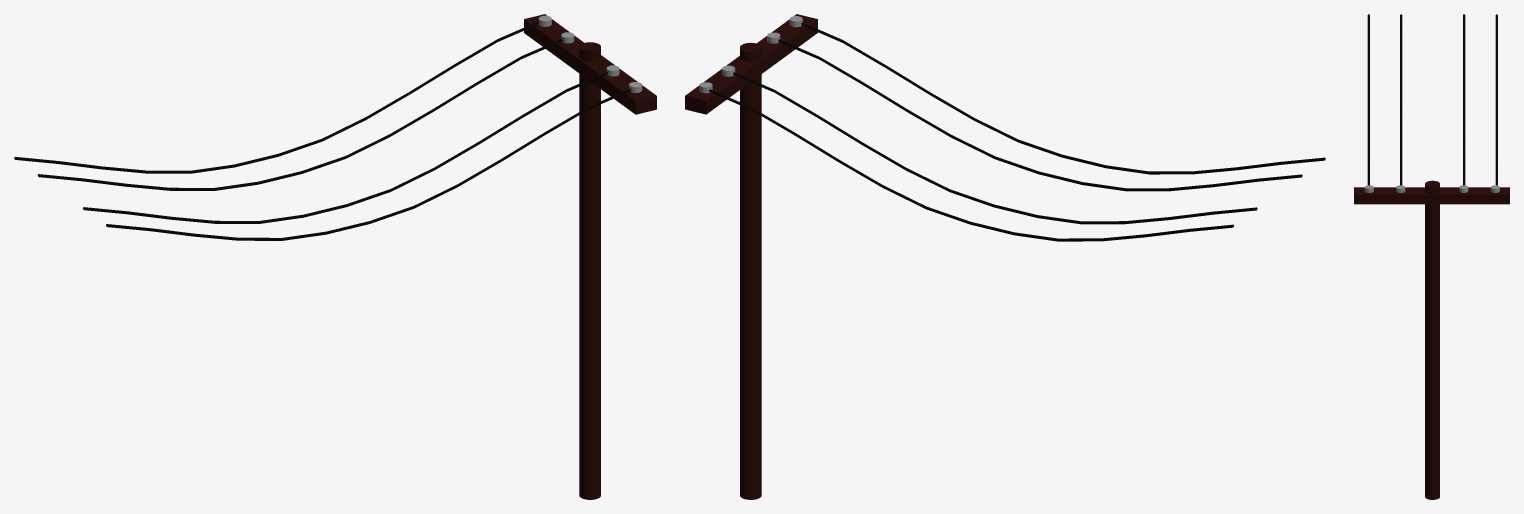
Rendered from electricpole.FBX.
The picture shows the model from 3 angles, left to right: view 1: azimuth 30°, elevation 25°; view 2: azimuth 150°, elevation 25°; view 3: azimuth 270°, elevation 25°; orthographic projection. The views are drawn at different scales.
Visible parts, largest first — view 1: Cylinder001, Box001, Cylinder006, Cylinder009, Cylinder007, Cylinder008; view 2: Cylinder001, Box001, Cylinder007, Cylinder006, Cylinder008, Cylinder009; view 3: Cylinder001, Box001, Cylinder006, Cylinder007, Cylinder008, Cylinder009.
Boxes of the visible parts, x1,y1,x2,y2 form: Cylinder001: (579,42,600,499); Box001: (524,14,656,114); Cylinder006: (14,21,539,173); Cylinder009: (106,88,630,240); Cylinder007: (38,39,562,190); Cylinder008: (83,72,607,223); Cylinder001: (740,42,761,499); Box001: (685,14,817,114); Cylinder007: (733,72,1257,224); Cylinder006: (708,89,1233,241); Cylinder008: (778,39,1302,191); Cylinder009: (801,22,1325,174); Cylinder001: (1425,180,1439,499); Box001: (1354,187,1509,204); Cylinder006: (1495,14,1497,185); Cylinder007: (1463,14,1465,185); Cylinder008: (1400,14,1402,185); Cylinder009: (1367,14,1369,185).
Size of the model in its own units: 467 by 371 by 168.
